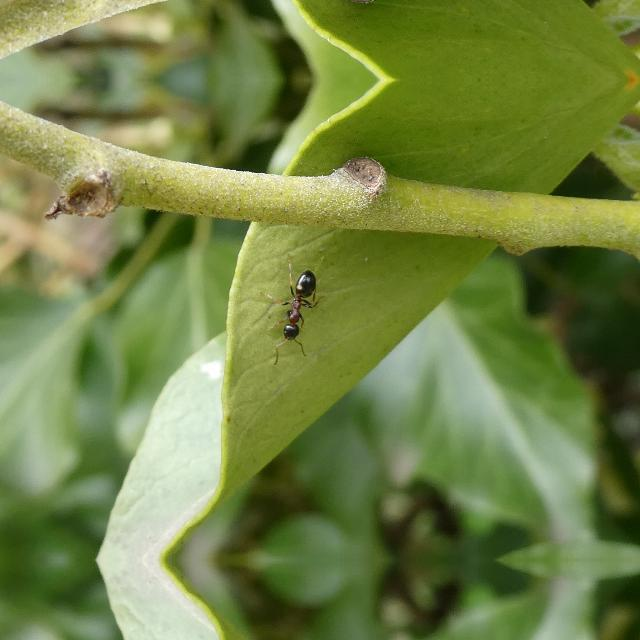Dolichoderus: (260, 260, 328, 354)
